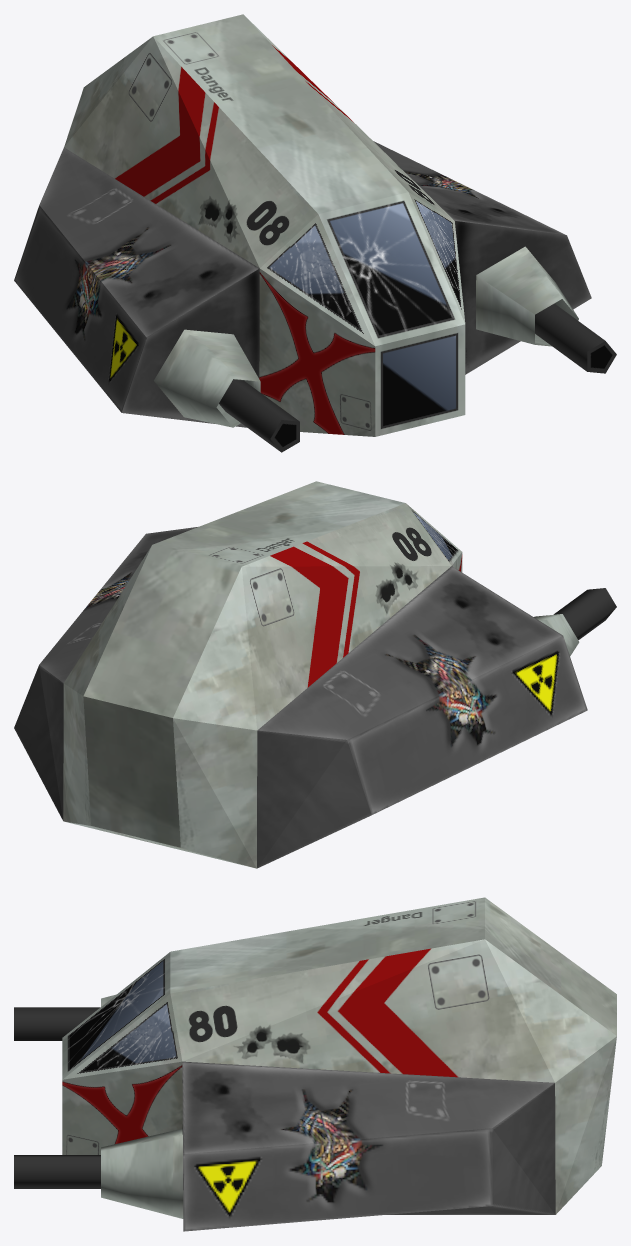
Rendered from walkingrobo_head@shot.FBX.
3 views of the same model, one above another, from view 1: azimuth 30°, elevation 25°; view 2: azimuth 150°, elevation 25°; view 3: azimuth 270°, elevation 25° (orthographic). The views are drawn at different scales.
Visible parts, largest first — view 1: walkingrobo_head, Point002; view 2: walkingrobo_head, Point002; view 3: walkingrobo_head, Point002.
Boxes of the visible parts, x1,y1,x2,y2 form: walkingrobo_head: (14,14,591,436); Point002: (219,303,616,452); walkingrobo_head: (14,481,587,868); Point002: (554,588,616,639); walkingrobo_head: (62,897,616,1231); Point002: (14,1007,100,1188).
Bounding box in the file's own units: 68.21 × 36.62 × 79.58.
